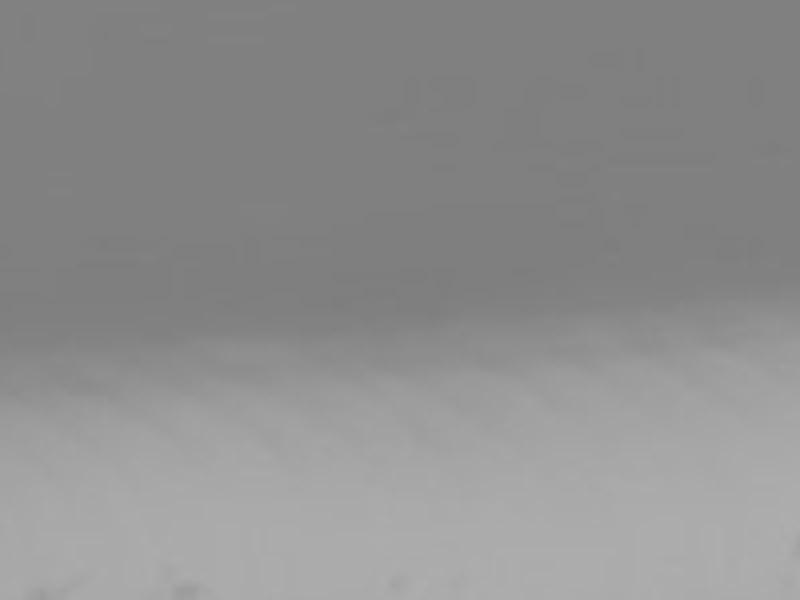defect: (167, 581, 199, 600), (27, 582, 59, 600), (386, 571, 407, 592)
